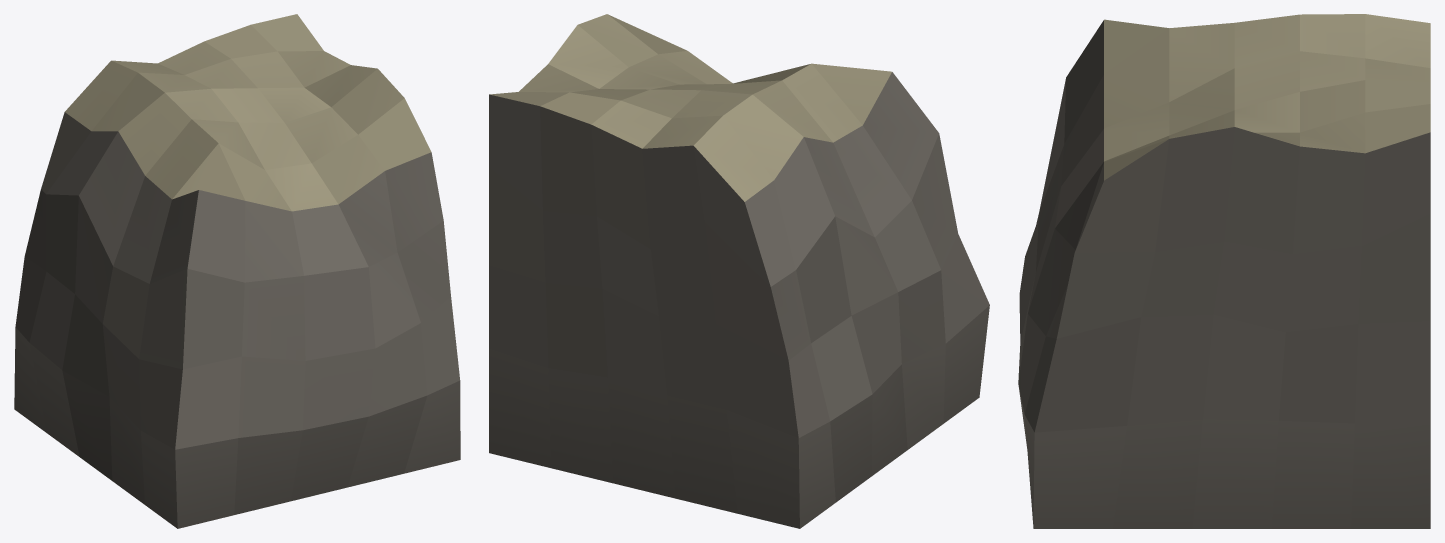
File: roca_esquina_3.glb
3 renders of one model, left to right at view 1: azimuth 30°, elevation 25°; view 2: azimuth 150°, elevation 25°; view 3: azimuth 270°, elevation 25°, orthographic. The views are drawn at different scales.
Parts seen in each view (by area): view 1: propforge-cuartos-roca_esquina; view 2: propforge-cuartos-roca_esquina; view 3: propforge-cuartos-roca_esquina.
Boxes of the visible parts, box(x1,y1,x2,y2) form: propforge-cuartos-roca_esquina: box(14, 14, 460, 528); propforge-cuartos-roca_esquina: box(489, 14, 989, 528); propforge-cuartos-roca_esquina: box(1018, 14, 1430, 528).
Size of the model in its own units: 0.9287 by 1.01 by 0.9344.
